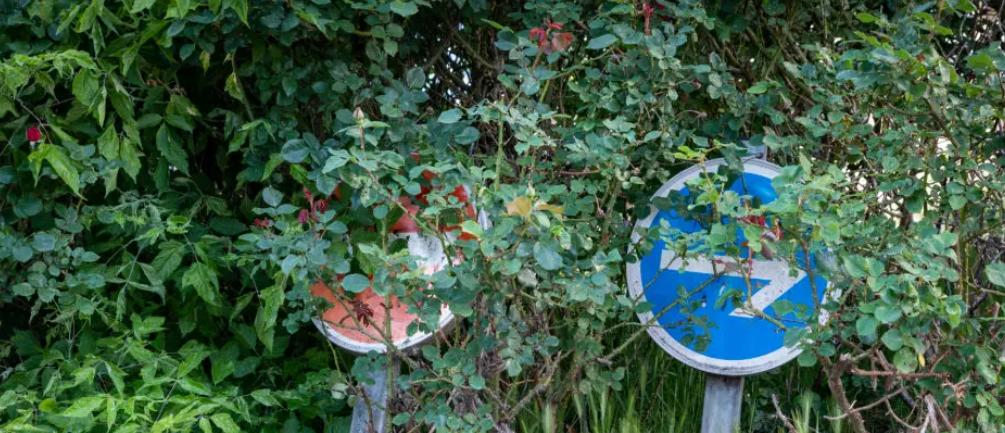obstructed_road_sign: (625, 155, 843, 377), (289, 151, 485, 352)
